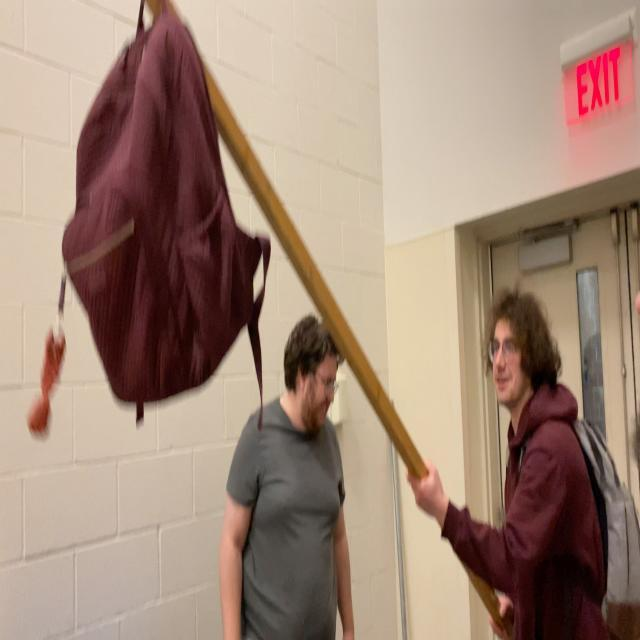Backpacks: (66, 19, 255, 406)
